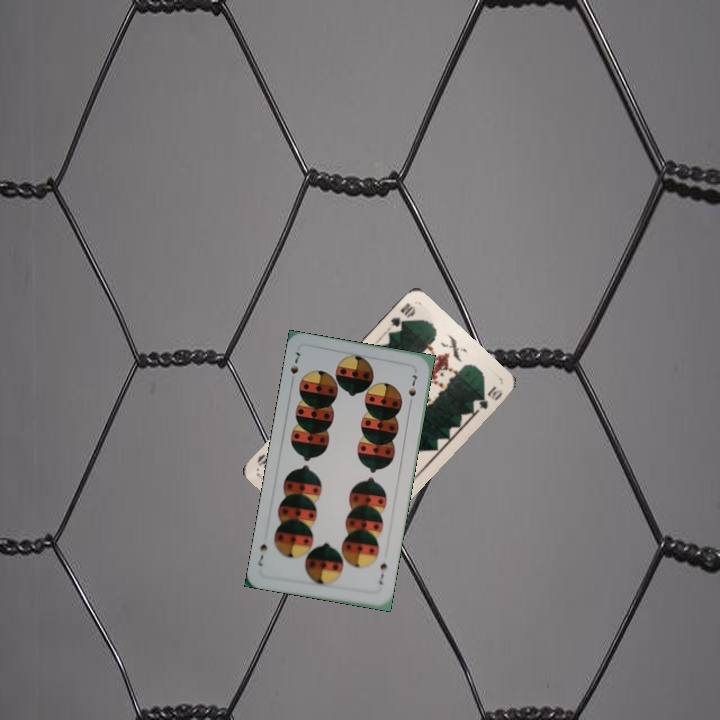G10: (386, 298, 418, 330)
S7: (286, 347, 304, 376), (375, 559, 390, 587)
